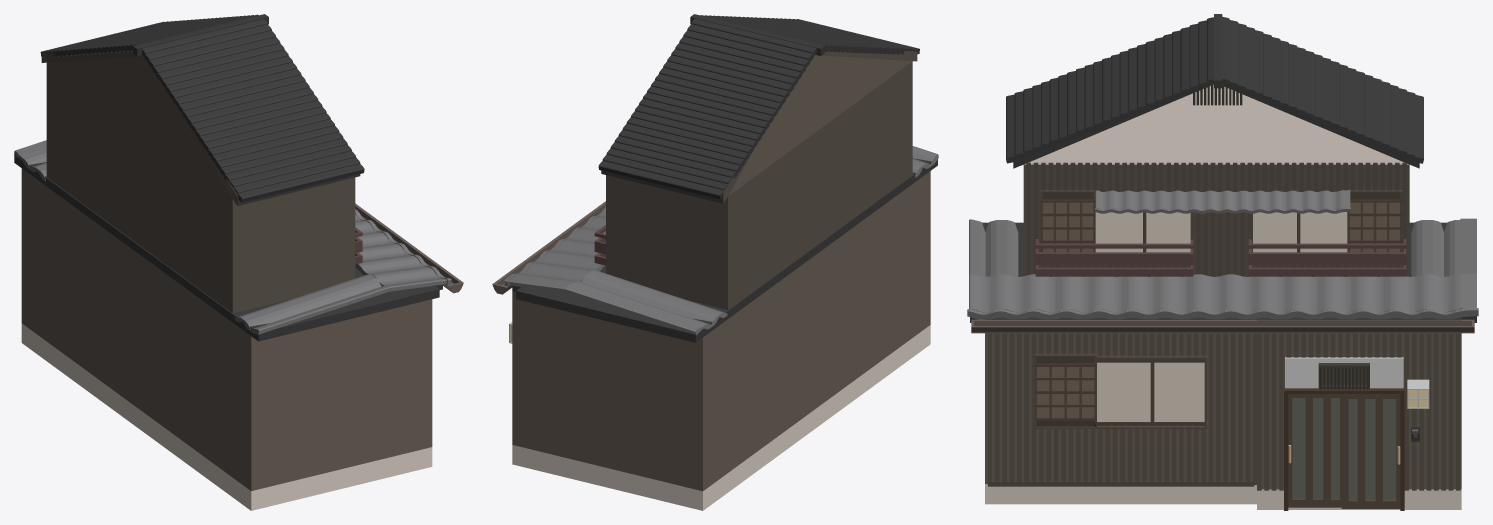
File: jphouse1.fbx
3 views of the same model, side by side, from view 1: azimuth 30°, elevation 25°; view 2: azimuth 150°, elevation 25°; view 3: azimuth 270°, elevation 25° (orthographic). The views are drawn at different scales.
Visible parts, largest first — view 1: JPHOUSE1; view 2: JPHOUSE1; view 3: JPHOUSE1.
Boxes of the visible parts, <box> form: JPHOUSE1: <box>14,14,463,510</box>; JPHOUSE1: <box>492,14,938,510</box>; JPHOUSE1: <box>967,14,1478,510</box>.
Bounding box in the file's own units: 2.6 × 4.42 × 5.16.
